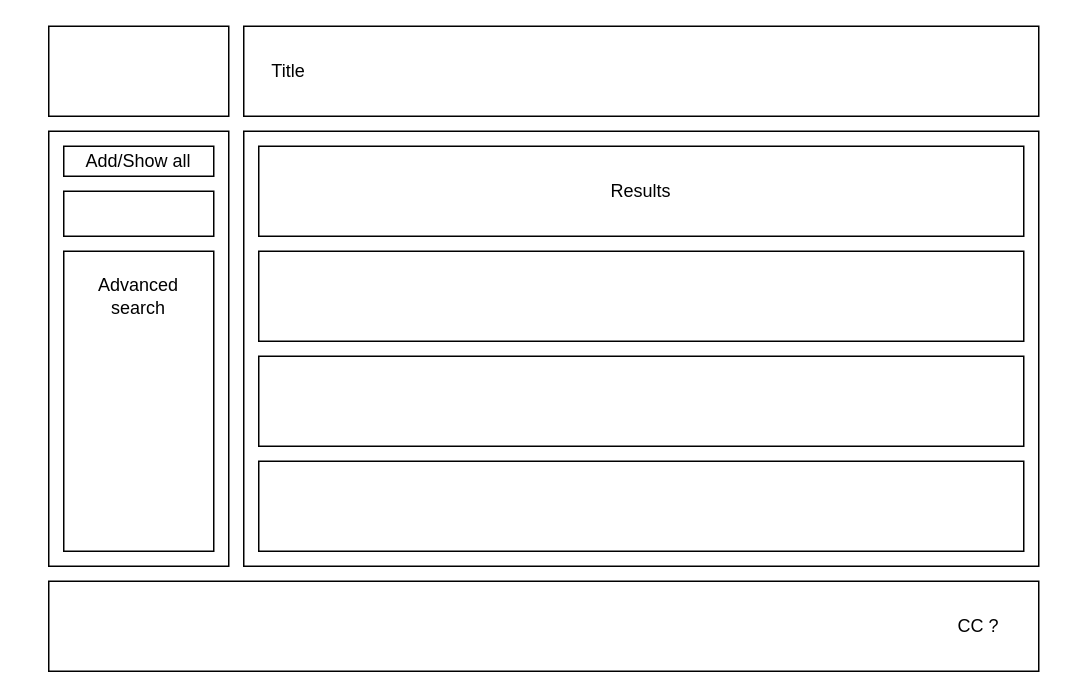
The diagram is 1065 pixels wide and 698 high, and some of its shapes have lost their labels. Here are the shapes that lost their labels. From the top down, the centre of each, then its label:
At (138,70): "Logo".
At (138,213): "Basic search".
